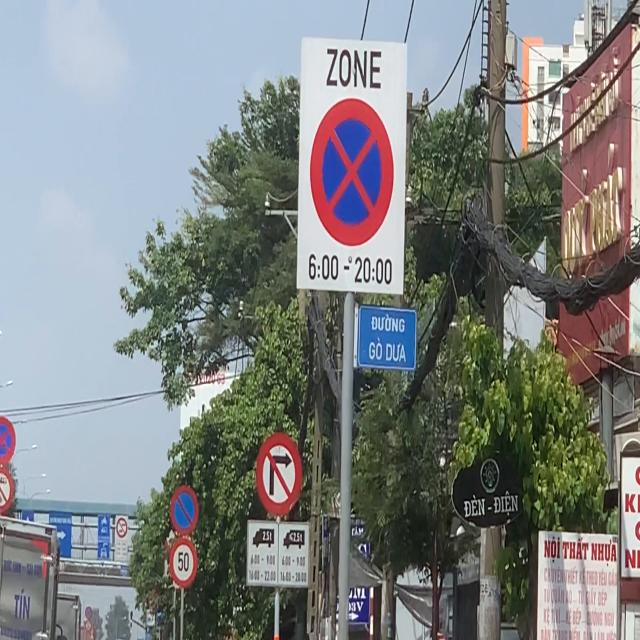Cam con lai: (116, 517, 128, 539), (84, 619, 92, 632)
Cam do: (164, 479, 204, 533)
Cam dung va do: (307, 93, 397, 251), (85, 607, 92, 619)
Cam re phai: (255, 426, 306, 521)
Toc do toi da: (168, 536, 198, 588)
